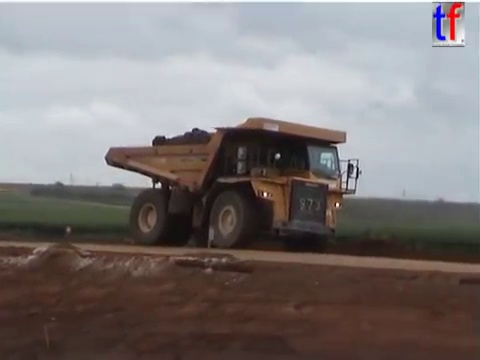truck: (102, 115, 365, 255)
